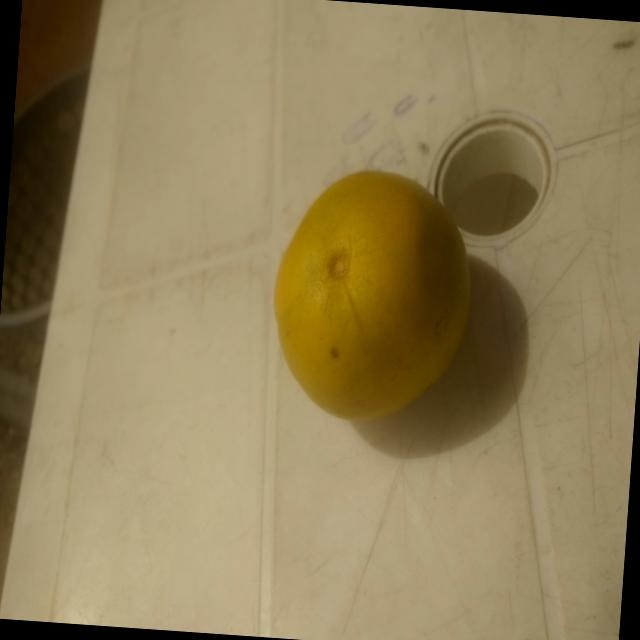agrume: (263, 163, 480, 435)
